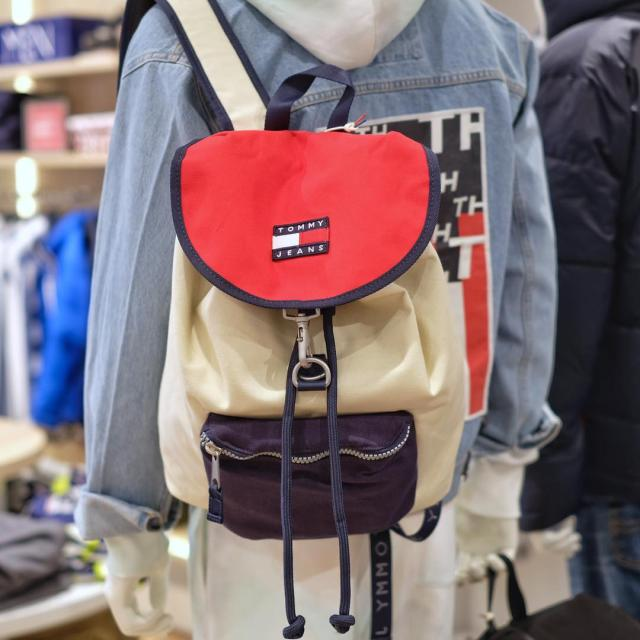handbag: (172, 123, 466, 551)
